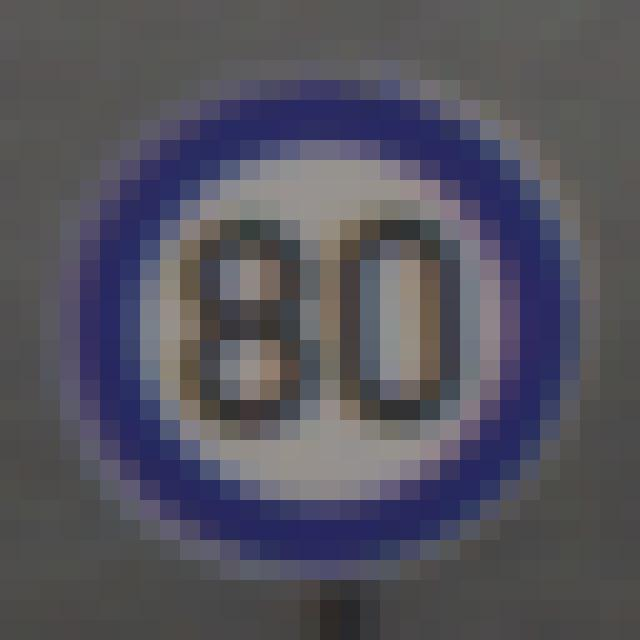SPEED-LIMIT-80: (44, 73, 578, 563)
